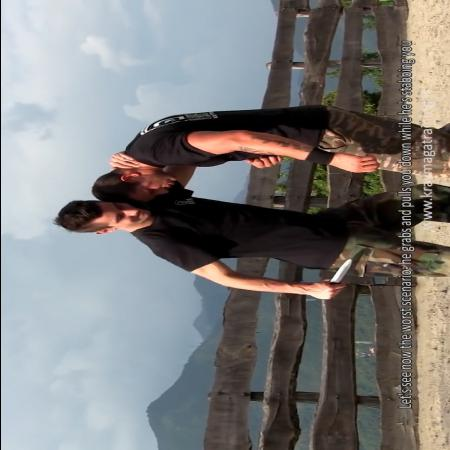long weapon: (317, 255, 362, 300)
